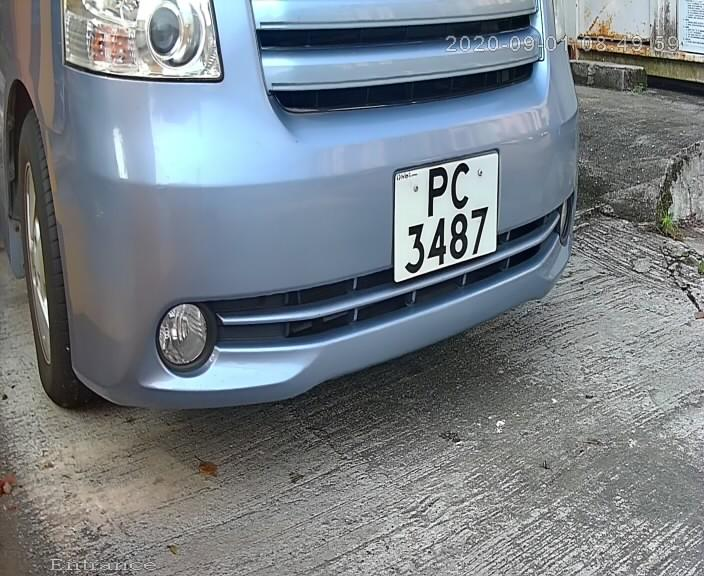Car: (10, 1, 620, 448)
License Plate: (387, 145, 507, 291)
